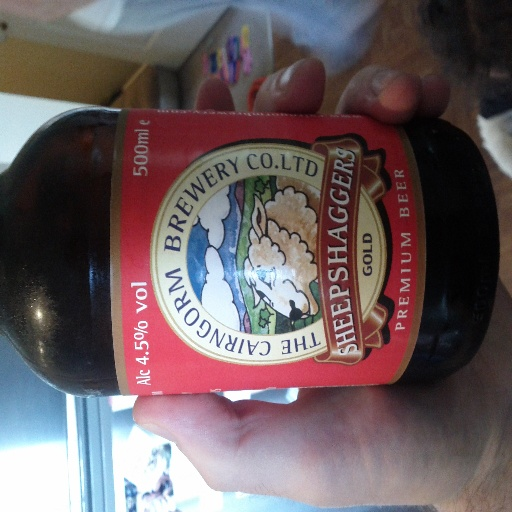hand: (129, 53, 511, 510)
